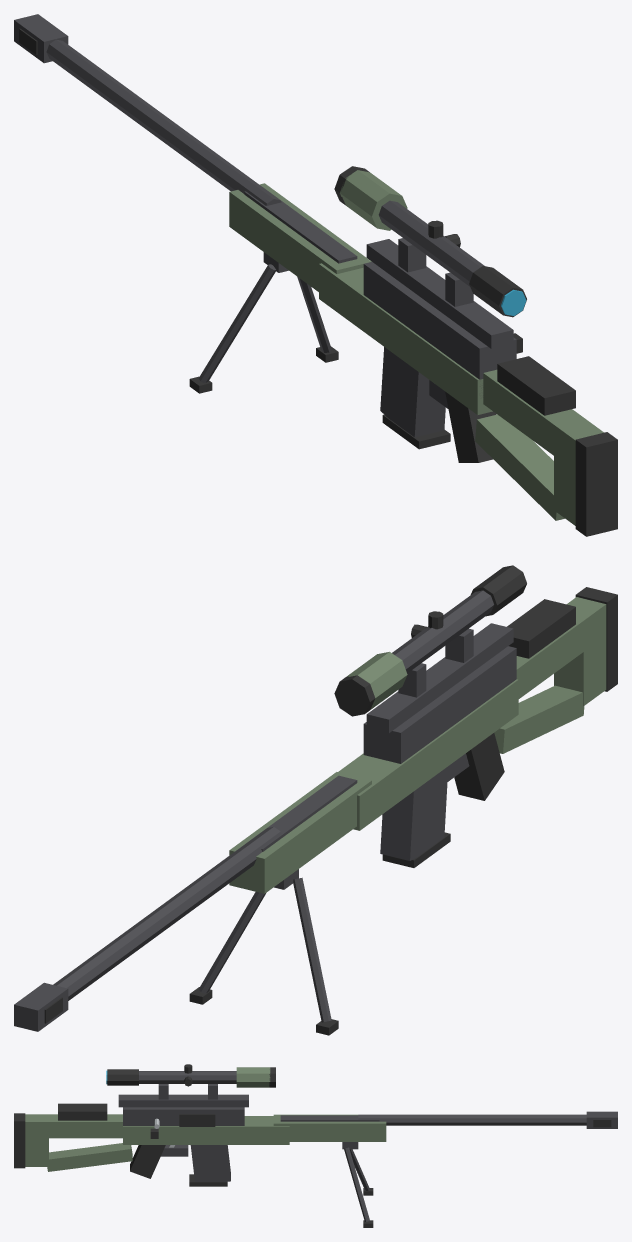
Rendered from lowpoly_sniper_rifle.fbx.
The picture shows the model from 3 angles, top to bottom: view 1: azimuth 30°, elevation 25°; view 2: azimuth 150°, elevation 25°; view 3: azimuth 270°, elevation 25°; orthographic projection. The views are drawn at different scales.
Parts seen in each view (by area): view 1: SR_Chassis_Mid, SR_Barrel, SR_Receiver, SR_Handguard, SR_Buttpad, SR_Picatinny_Rail, SR_Stock_Lower, SR_Stock_Upper, SR_Magazine, SR_Cheek_Rest, SR_Scope_Tube, SR_Stock_Rear_Block (+10 smaller); view 2: SR_Chassis_Mid, SR_Barrel, SR_Receiver, SR_Handguard, SR_Magazine, SR_Picatinny_Rail, SR_Stock_Lower, SR_Stock_Rear_Block, SR_Stock_Upper, SR_Scope_Tube, SR_Cheek_Rest, SR_Pistol_Grip (+10 smaller); view 3: SR_Chassis_Mid, SR_Barrel, SR_Handguard, SR_Receiver, SR_Stock_Upper, SR_Picatinny_Rail, SR_Stock_Lower, SR_Magazine, SR_Scope_Tube, SR_Stock_Rear_Block, SR_Cheek_Rest, SR_Pistol_Grip (+9 smaller).
Boxes of the visible parts, box(x1,y1,x2,y2) form: SR_Chassis_Mid: box(319, 263, 492, 414); SR_Barrel: box(46, 39, 281, 205); SR_Receiver: box(363, 262, 516, 388); SR_Handguard: box(229, 183, 371, 291); SR_Buttpad: box(575, 432, 617, 536); SR_Picatinny_Rail: box(366, 239, 513, 348); SR_Stock_Lower: box(475, 414, 564, 520); SR_Stock_Upper: box(483, 369, 599, 467); SR_Magazine: box(380, 347, 445, 437); SR_Cheek_Rest: box(497, 356, 575, 415); SR_Scope_Tube: box(378, 200, 484, 286); SR_Stock_Rear_Block: box(554, 421, 603, 525); SR_Chassis_Mid: box(338, 679, 518, 830); SR_Barrel: box(53, 827, 281, 1000); SR_Receiver: box(363, 646, 516, 763); SR_Handguard: box(229, 772, 371, 893); SR_Magazine: box(380, 766, 448, 860); SR_Picatinny_Rail: box(366, 623, 513, 733); SR_Stock_Lower: box(494, 685, 584, 753); SR_Stock_Rear_Block: box(554, 597, 606, 706); SR_Stock_Upper: box(516, 601, 599, 698); SR_Scope_Tube: box(392, 590, 493, 673); SR_Cheek_Rest: box(507, 599, 575, 658); SR_Pistol_Grip: box(454, 733, 504, 800); SR_Chassis_Mid: box(123, 1116, 289, 1144); SR_Barrel: box(358, 1114, 586, 1125); SR_Handguard: box(273, 1114, 386, 1141); SR_Receiver: box(123, 1107, 244, 1125); SR_Stock_Upper: box(32, 1114, 122, 1138); SR_Picatinny_Rail: box(118, 1094, 248, 1107); SR_Stock_Lower: box(47, 1143, 132, 1171); SR_Magazine: box(190, 1145, 230, 1182); SR_Scope_Tube: box(139, 1071, 236, 1083); SR_Stock_Rear_Block: box(25, 1114, 48, 1166); SR_Cheek_Rest: box(58, 1103, 107, 1120); SR_Pistol_Grip: box(130, 1145, 165, 1178).
Size of the model in its own units: 0.375 by 0.707 by 2.69.
